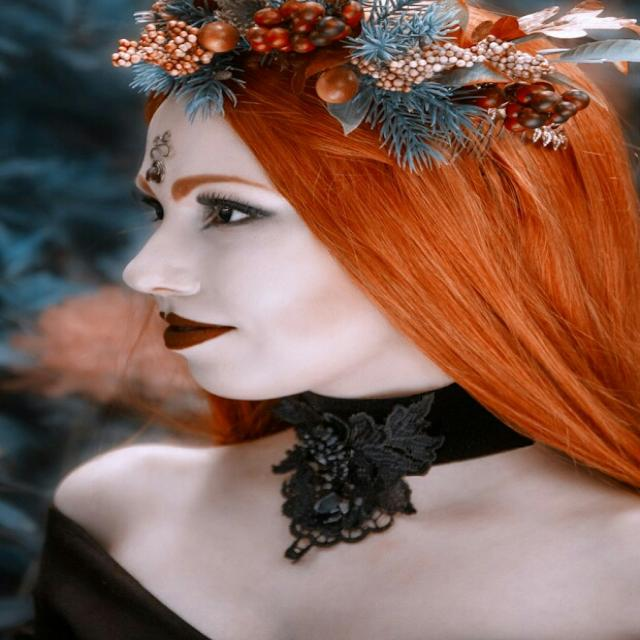front: (126, 140, 328, 389)
